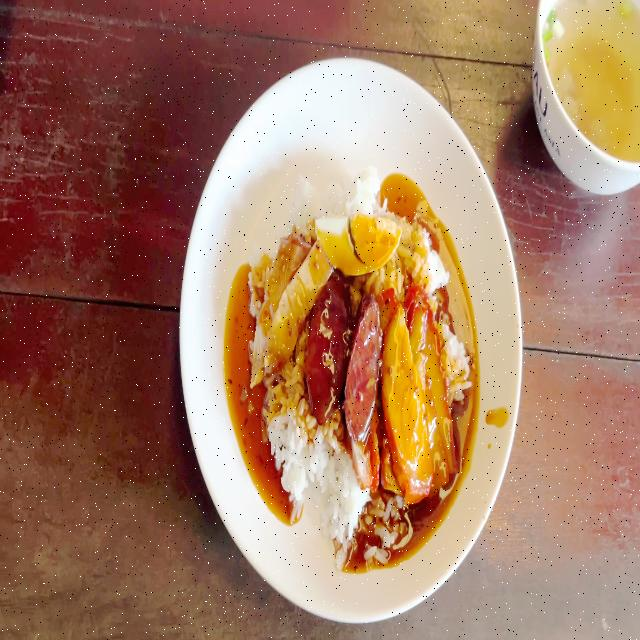boiled_egg: (317, 221, 395, 274)
chainese_sausage: (302, 278, 374, 434), (343, 292, 377, 439), (311, 286, 347, 412)
crispy_pork: (257, 225, 321, 376), (274, 239, 328, 355), (241, 238, 291, 348)
red_pork: (378, 299, 450, 487), (408, 291, 458, 481), (384, 311, 423, 475)
red_pork_and_crispy_pork: (252, 176, 466, 556)
rice: (309, 450, 360, 556), (270, 375, 314, 480), (295, 164, 383, 208)
